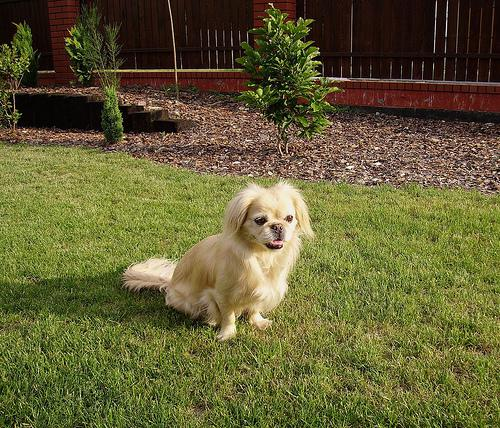dog-japanese_chin: (221, 182, 312, 251)
